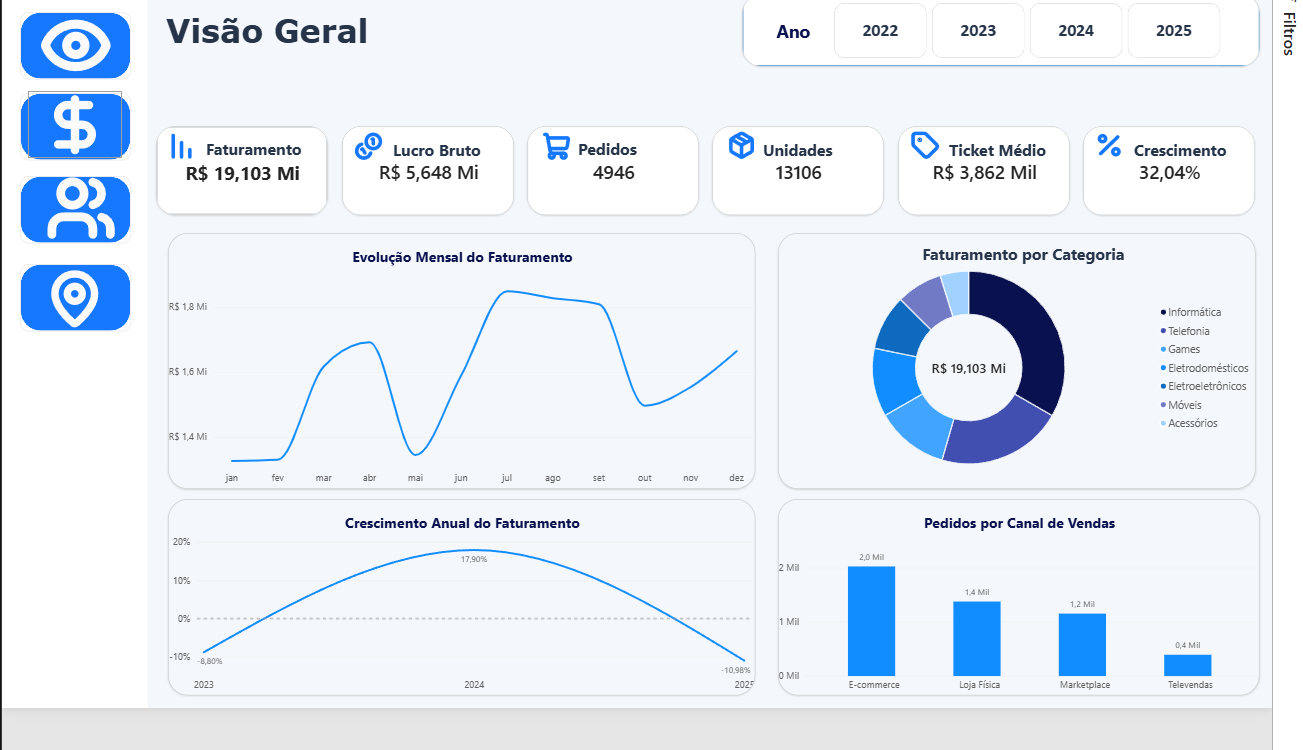

This screenshot's page, from the dashboard's own definition file:
{"tool":"powerbi","page":{"name":"Visão Geral","canvas":[1920,1080],"ordinal":0},"visuals":[{"type":"shape","box":[1118.3,0,783.3,110],"z":0},{"type":"cardVisual","fields":{"Data":["Medidas.Lucro Total"]},"box":[232.7,199.3,260,135],"z":1000},{"type":"shape","box":[0,0,220,1080],"z":2000},{"type":"actionButton","box":[26.9,26.9,167.6,101.8],"z":3000},{"type":"actionButton","box":[26.9,149.6,167.6,101.8],"z":4000},{"type":"actionButton","box":[26.9,275.4,167.6,101.8],"z":5000},{"type":"actionButton","box":[26.9,408.5,167.6,101.8],"z":6000},{"type":"cardVisual","fields":{"Data":["Medidas.Total Pedidos"]},"box":[793.7,200.2,260,135],"z":7000},{"type":"cardVisual","fields":{"Data":["Medidas.Produtos Vendidos"]},"box":[1073.8,200.2,260,135],"z":8000},{"type":"cardVisual","fields":{"Data":["Medidas.Lucro Bruto Total"]},"box":[513.5,200.2,260,135],"z":9000},{"type":"cardVisual","fields":{"Data":["Medidas.Ticket Médio"]},"box":[1354,200.2,260,135],"z":10000},{"type":"cardVisual","fields":{"Data":["Medidas.Crescimento Faturamento"]},"box":[1634.2,200.2,260,135],"z":11000},{"type":"advancedSlicerVisual","fields":{"Values":["dCalendario.Ano"]},"box":[1258.3,13.3,601.7,166.7],"z":12000},{"type":"textbox","box":[309,218,171.2,36.5],"z":13000},{"type":"image","box":[248.3,208.3,46.2,43.1],"z":14000},{"type":"textbox","box":[591.1,218.3,141.7,28.9],"z":15000},{"type":"textbox","box":[591,219,156,34],"z":16000},{"type":"textbox","box":[871,217,154,36],"z":17000},{"type":"textbox","box":[1151,219,177.1,37.1],"z":18000},{"type":"textbox","box":[1432,219,184,36],"z":19000},{"type":"image","box":[530.8,208.5,46,43],"z":20000},{"type":"image","box":[814.3,208.6,46,43],"z":21000},{"type":"image","box":[1094.6,207.7,46,43],"z":22000},{"type":"image","box":[1373.1,206.9,46,43.3],"z":23000},{"type":"image","box":[1650.8,206.9,46,43.3],"z":24000},{"type":"textbox","box":[1712,219,189.2,35.4],"z":25000},{"type":"donutChart","title":"Faturamento por Categoria","fields":{"Category":["dProduto.Categoria"],"Y":["Medidas.Faturamento Liquido Total"]},"box":[1173.3,361.7,721.7,386.7],"z":26000},{"type":"textbox","box":[1240,377.1,608.6,45.7],"z":27000},{"type":"lineChart","title":"Evolução Mensal do Faturamento","fields":{"Category":["dCalendario.Mes Nome"],"Y":["Medidas.Faturamento Liquido Total"]},"box":[251.7,361.7,888.3,386.7],"z":28000},{"type":"lineChart","title":"Crescimento Anual do Faturamento","fields":{"Category":["dCalendario.Ano"],"Y":["Medidas.Crescimento YoY %"]},"box":[251.7,763.3,888.3,296.7],"z":29000},{"type":"clusteredColumnChart","title":"Pedidos por Canal de Vendas","fields":{"Category":["dCanal.Canal_Venda"],"Y":["Medidas.Total Pedidos"]},"box":[1173.3,763.3,728.3,296.7],"z":30000},{"type":"textbox","box":[1151.7,38.3,88.3,40],"z":31000},{"type":"image","box":[0,415,220,90],"z":32000},{"type":"image","box":[20,270,200,106],"z":33000},{"type":"image","box":[40,146.7,142,102],"z":34000},{"type":"image","box":[10,23.3,202,110],"z":35000},{"type":"textbox","box":[248,26,812,84],"z":36000}]}

Visuals, with their boxes on the page's 1920x1080 design canvas (x1, y1, x2, y2). These are canvas units, not pixel positions in the 1303x750 screenshot, which may show the page scaled, cropped or inside an application window:
shape: <region>1118, 0, 1902, 110</region>
cardVisual - Medidas.Lucro Total: <region>233, 199, 493, 334</region>
shape: <region>0, 0, 220, 1080</region>
actionButton: <region>27, 27, 194, 129</region>
actionButton: <region>27, 150, 194, 251</region>
actionButton: <region>27, 275, 194, 377</region>
actionButton: <region>27, 408, 194, 510</region>
cardVisual - Medidas.Total Pedidos: <region>794, 200, 1054, 335</region>
cardVisual - Medidas.Produtos Vendidos: <region>1074, 200, 1334, 335</region>
cardVisual - Medidas.Lucro Bruto Total: <region>514, 200, 774, 335</region>
cardVisual - Medidas.Ticket Médio: <region>1354, 200, 1614, 335</region>
cardVisual - Medidas.Crescimento Faturamento: <region>1634, 200, 1894, 335</region>
advancedSlicerVisual - dCalendario.Ano: <region>1258, 13, 1860, 180</region>
textbox: <region>309, 218, 480, 254</region>
image: <region>248, 208, 294, 251</region>
textbox: <region>591, 218, 733, 247</region>
textbox: <region>591, 219, 747, 253</region>
textbox: <region>871, 217, 1025, 253</region>
textbox: <region>1151, 219, 1328, 256</region>
textbox: <region>1432, 219, 1616, 255</region>
image: <region>531, 208, 577, 252</region>
image: <region>814, 209, 860, 252</region>
image: <region>1095, 208, 1141, 251</region>
image: <region>1373, 207, 1419, 250</region>
image: <region>1651, 207, 1697, 250</region>
textbox: <region>1712, 219, 1901, 254</region>
"Faturamento por Categoria" donutChart: <region>1173, 362, 1895, 748</region>
textbox: <region>1240, 377, 1849, 423</region>
"Evolução Mensal do Faturamento" lineChart: <region>252, 362, 1140, 748</region>
"Crescimento Anual do Faturamento" lineChart: <region>252, 763, 1140, 1060</region>
"Pedidos por Canal de Vendas" clusteredColumnChart: <region>1173, 763, 1902, 1060</region>
textbox: <region>1152, 38, 1240, 78</region>
image: <region>0, 415, 220, 505</region>
image: <region>20, 270, 220, 376</region>
image: <region>40, 147, 182, 249</region>
image: <region>10, 23, 212, 133</region>
textbox: <region>248, 26, 1060, 110</region>
